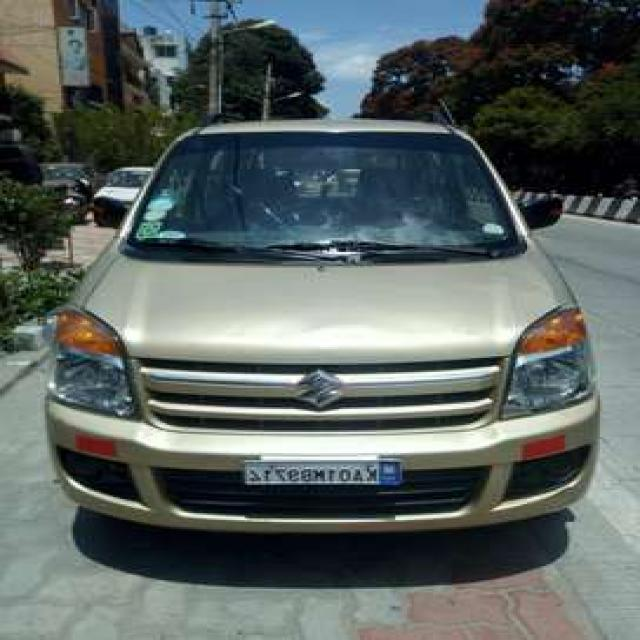license_plate: (236, 455, 411, 491)
